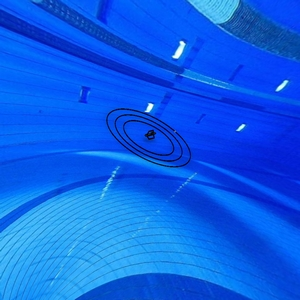circle: (99, 104, 198, 174)
submarine: (145, 126, 158, 147)
